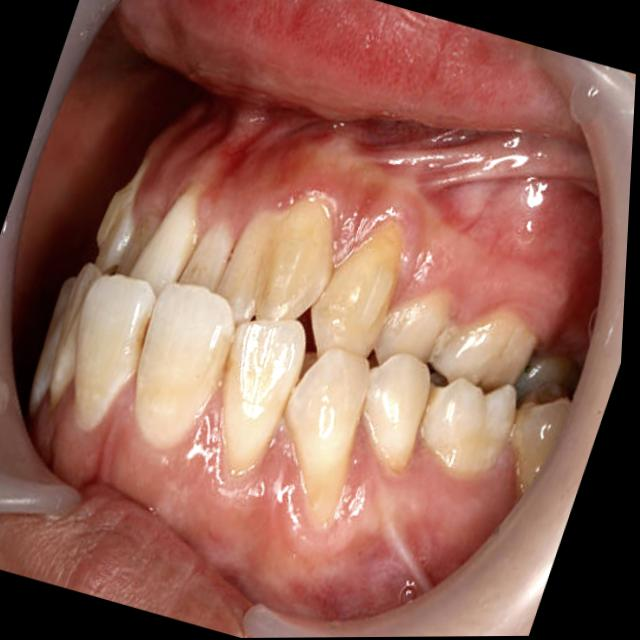gingivitis: (30, 378, 513, 620), (136, 104, 581, 296)
